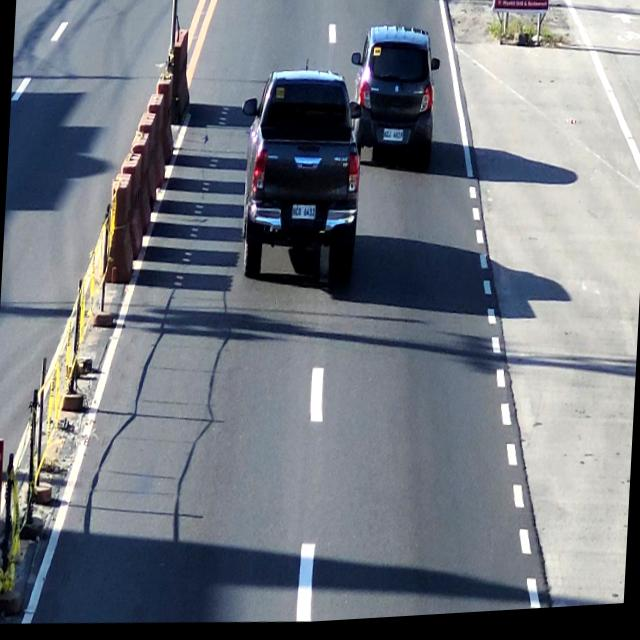Car: (238, 68, 364, 295), (354, 24, 440, 171)
License-Plate: (289, 204, 318, 227), (382, 131, 405, 149)
